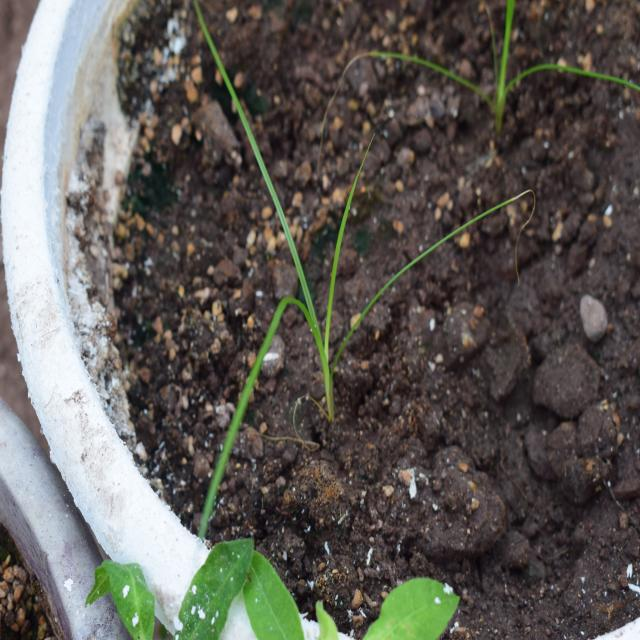sedge: (157, 43, 433, 525)
